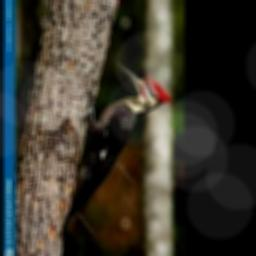Woodpecker: (61, 62, 169, 236)
